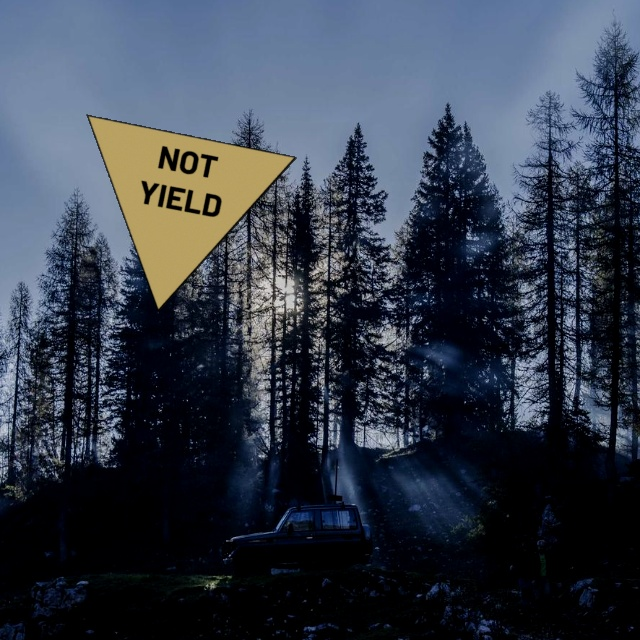NOT_YIELD: (86, 114, 297, 312)
